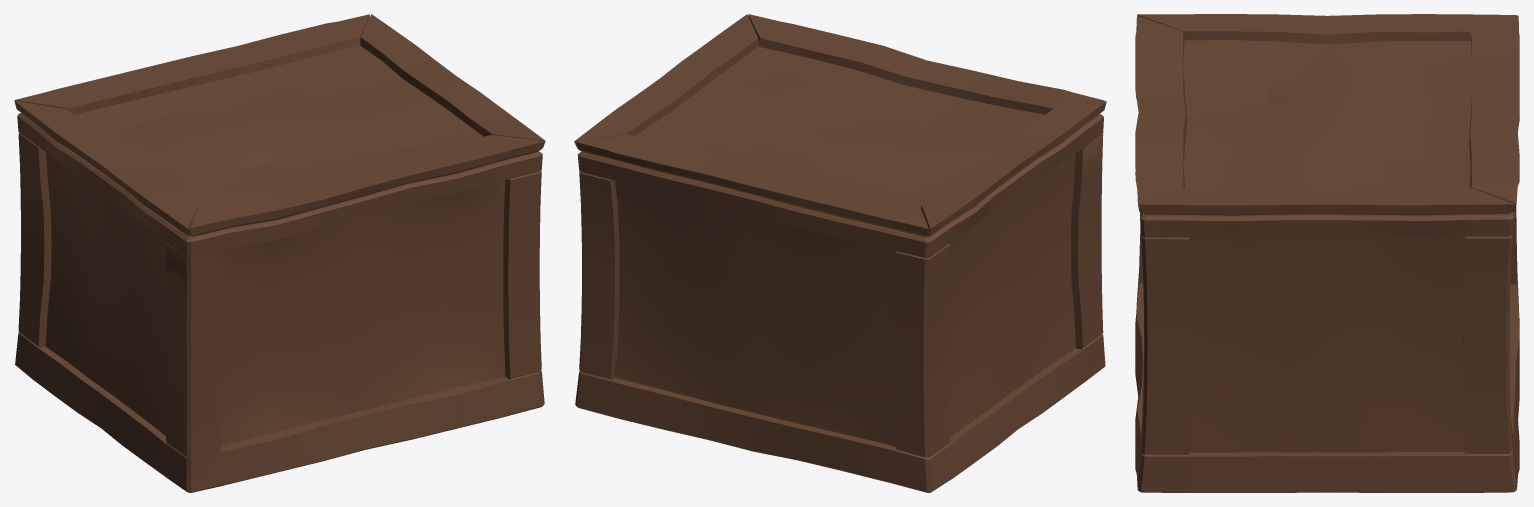
File: Wooden_box.fbx
3 views of the same model, side by side, from view 1: azimuth 30°, elevation 25°; view 2: azimuth 150°, elevation 25°; view 3: azimuth 270°, elevation 25° (orthographic). The views are drawn at different scales.
Visible parts, largest first — view 1: Wooden_Box; view 2: Wooden_Box; view 3: Wooden_Box.
Boxes of the visible parts, x1,y1,x2,y2 form: Wooden_Box: (14,14,545,492); Wooden_Box: (574,14,1106,492); Wooden_Box: (1135,14,1519,492).
Bounding box in the file's own units: 140 × 98.87 × 119.
Materials: 1 (1 with a texture image).
